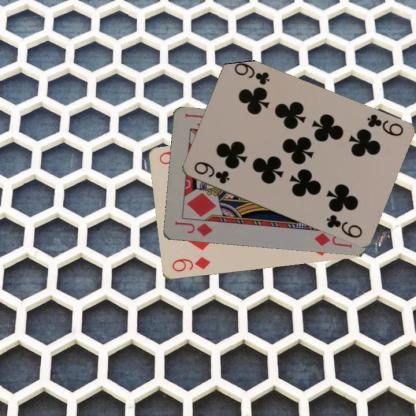9c: (191, 159, 231, 185), (364, 112, 404, 138)
9d: (170, 254, 212, 274)
Jd: (172, 219, 214, 237)
